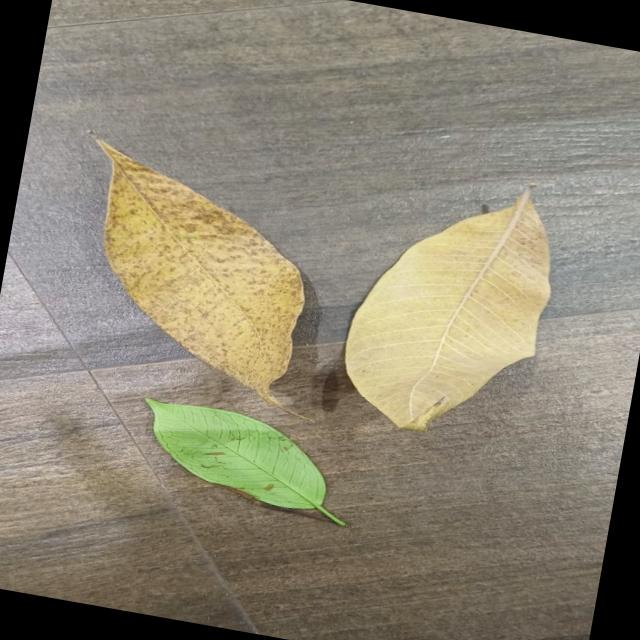Leaf-Bio: (47, 139, 349, 411), (326, 160, 576, 454), (125, 386, 372, 532)
